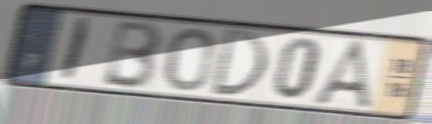0: (270, 36, 322, 103)
A: (310, 38, 377, 112)
B: (99, 19, 165, 92)
D: (208, 27, 270, 100)
I: (56, 15, 95, 85)
O: (162, 26, 216, 93)
